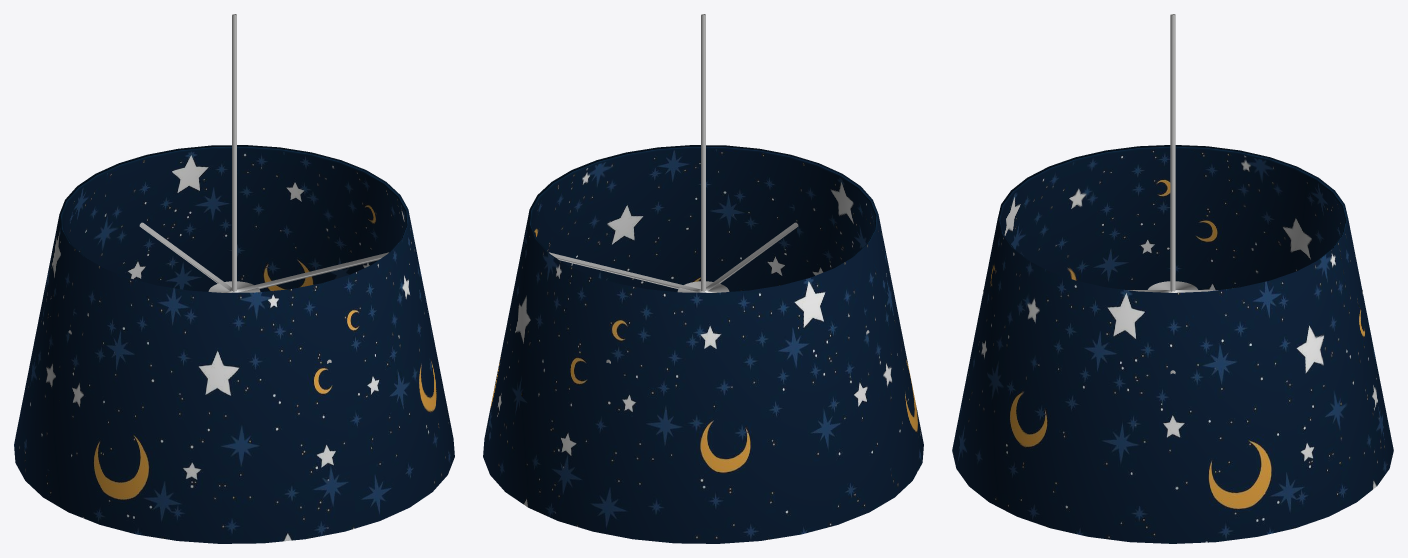
File: lamp.fbx
3 renders of one model, left to right at view 1: azimuth 30°, elevation 25°; view 2: azimuth 150°, elevation 25°; view 3: azimuth 270°, elevation 25°, orthographic.
Visible parts, largest first — view 1: lamp; view 2: lamp; view 3: lamp.
Boxes of the visible parts, x1,y1,x2,y2 form: lamp: (14,14,454,543); lamp: (483,14,923,543); lamp: (952,14,1393,543).
Bounding box in the file's own units: 61.79 × 67.23 × 61.79.
